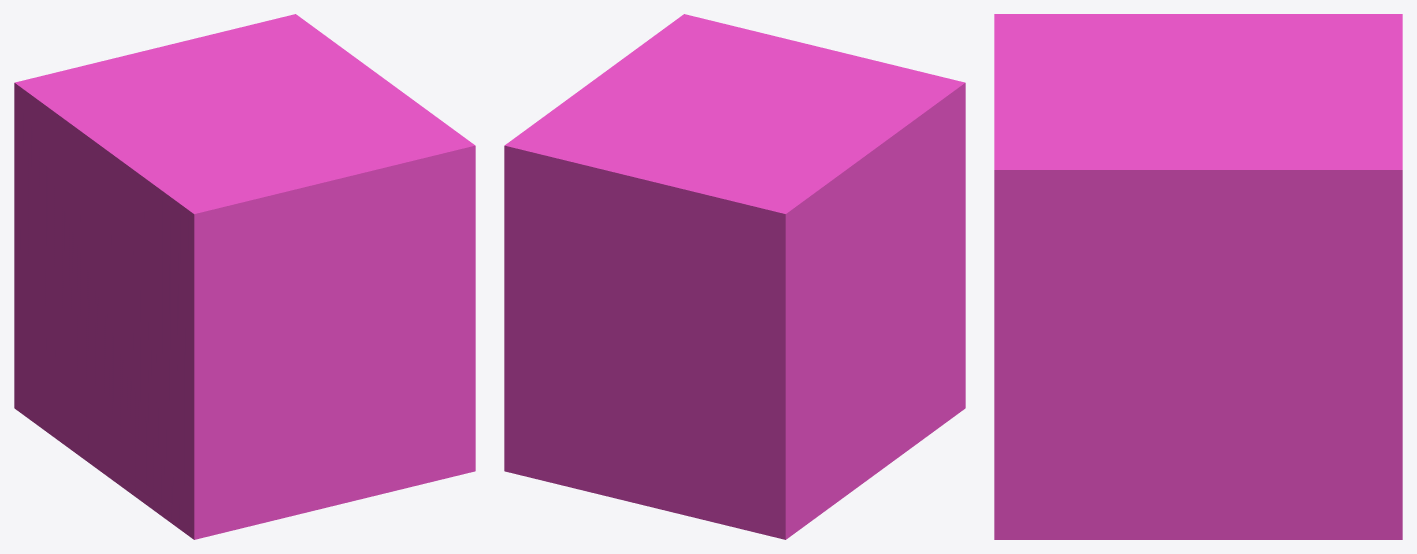
File: resource_recycler.glb
3 renders of one model, left to right at view 1: azimuth 30°, elevation 25°; view 2: azimuth 150°, elevation 25°; view 3: azimuth 270°, elevation 25°, orthographic. The views are drawn at different scales.
Visible parts, largest first — view 1: COL_BOX_BODY; view 2: COL_BOX_BODY; view 3: COL_BOX_BODY.
Part boxes in pixels (x1=…): COL_BOX_BODY: x1=14, y1=14, x2=475, y2=539; COL_BOX_BODY: x1=504, y1=14, x2=965, y2=539; COL_BOX_BODY: x1=994, y1=14, x2=1402, y2=539.
Size of the model in its own units: 1.22 by 1.35 by 1.35.
